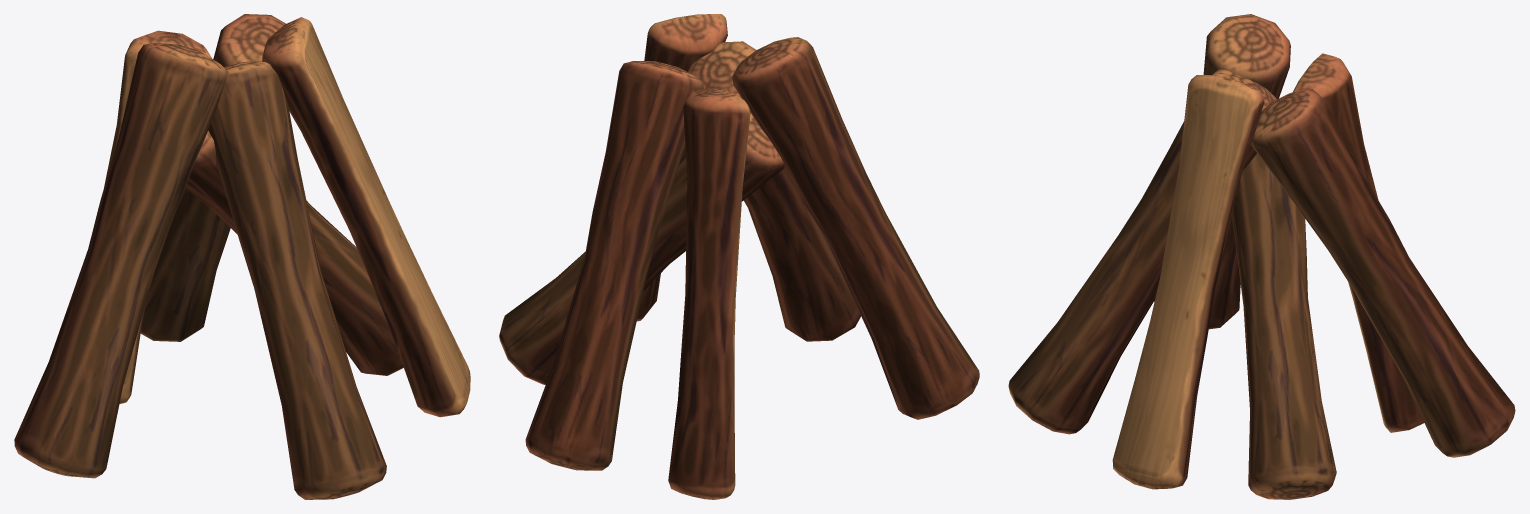
Rendered from SM_Logs_TeePee_01.obj.
3 views of the same model, side by side, from view 1: azimuth 30°, elevation 25°; view 2: azimuth 150°, elevation 25°; view 3: azimuth 270°, elevation 25° (orthographic). The views are drawn at different scales.
Visible parts, largest first — view 1: SM_Logs_TeePee_01_MI_CampFire_Assets; view 2: SM_Logs_TeePee_01_MI_CampFire_Assets; view 3: SM_Logs_TeePee_01_MI_CampFire_Assets.
Boxes of the visible parts, box(x1,y1,x2,y2) form: SM_Logs_TeePee_01_MI_CampFire_Assets: box(14, 14, 470, 499); SM_Logs_TeePee_01_MI_CampFire_Assets: box(499, 14, 979, 499); SM_Logs_TeePee_01_MI_CampFire_Assets: box(1008, 14, 1515, 499).
Size of the model in its own units: 0.6675 by 0.5981 by 0.6877.
